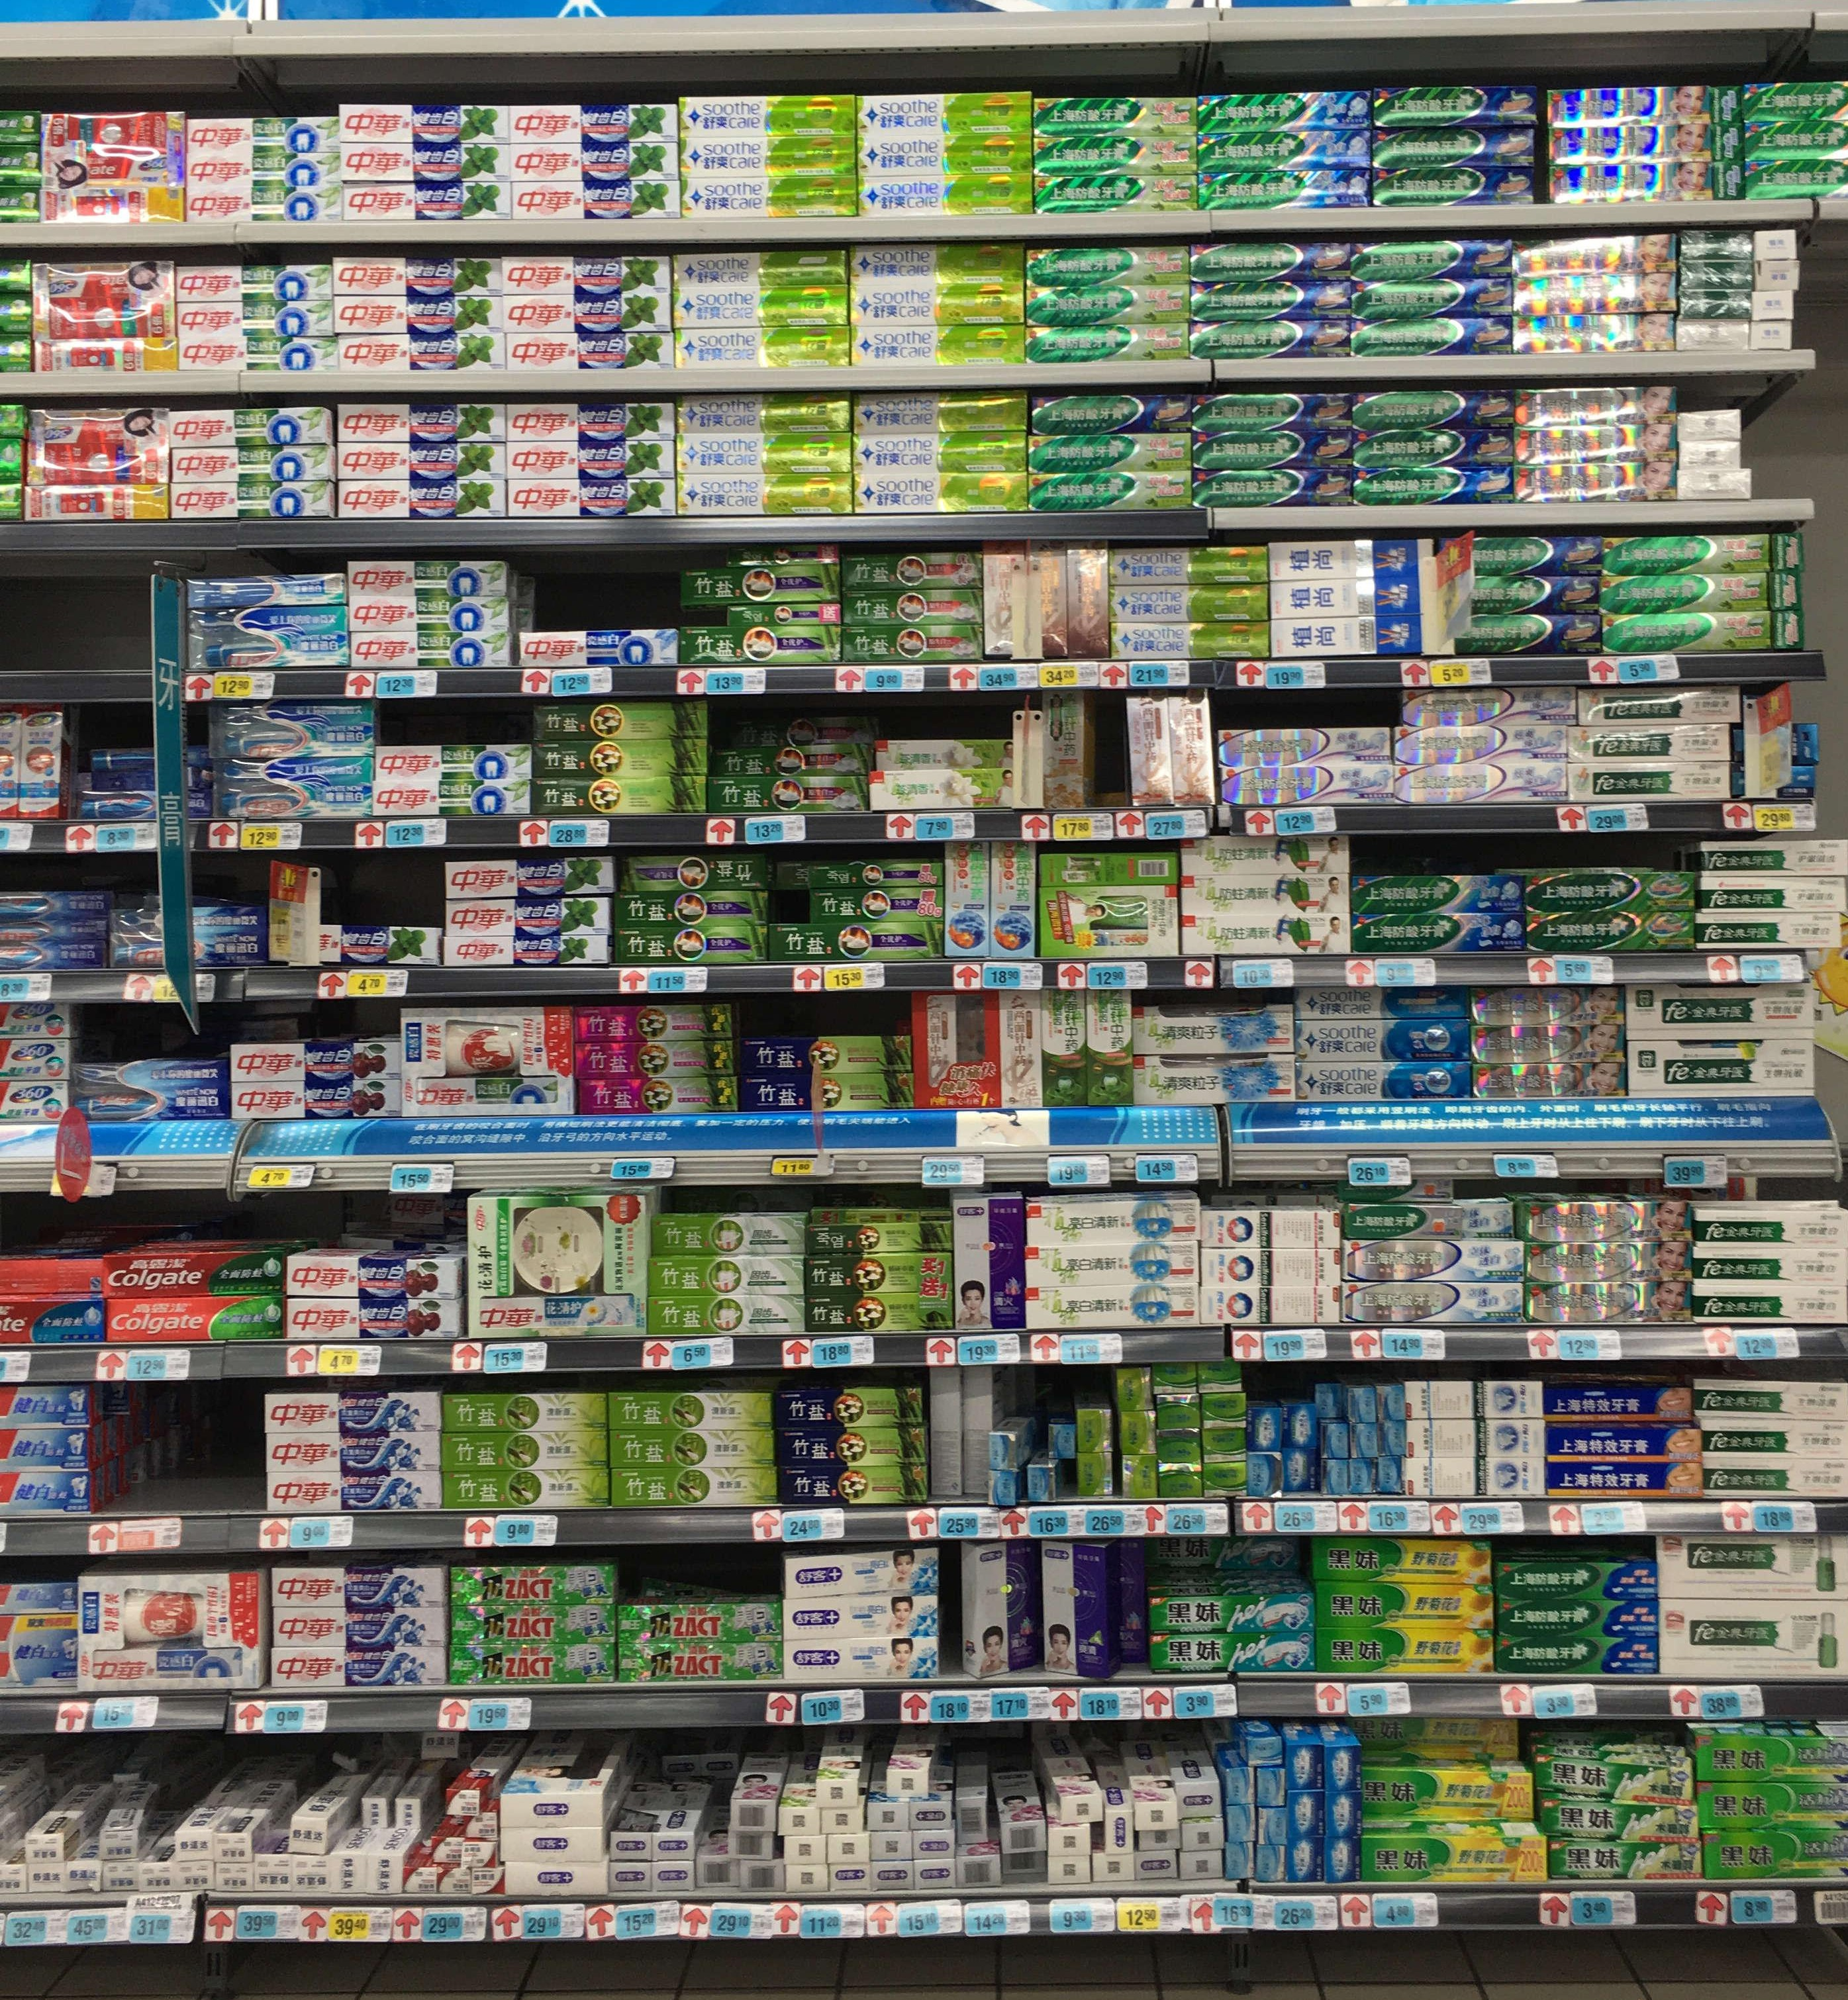empty: (5, 585, 143, 669), (172, 1389, 256, 1502)
misalignment: (989, 1404, 1078, 1503)
